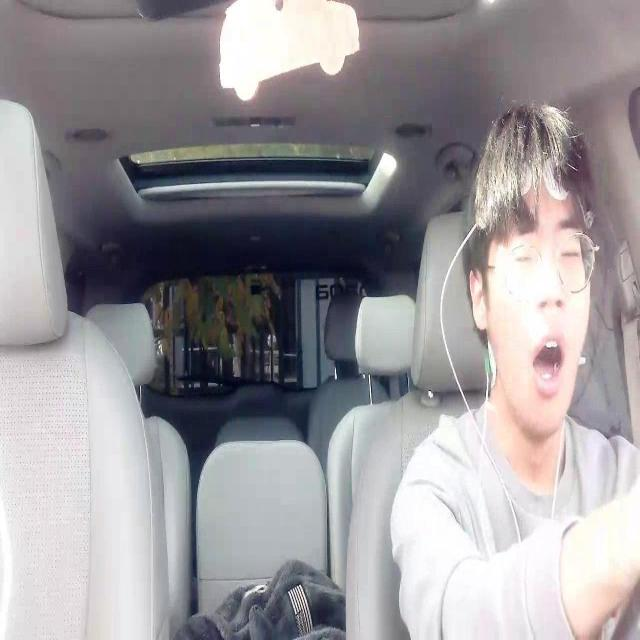Inattentive: (463, 100, 591, 432)
Yawning: (528, 323, 568, 393)
